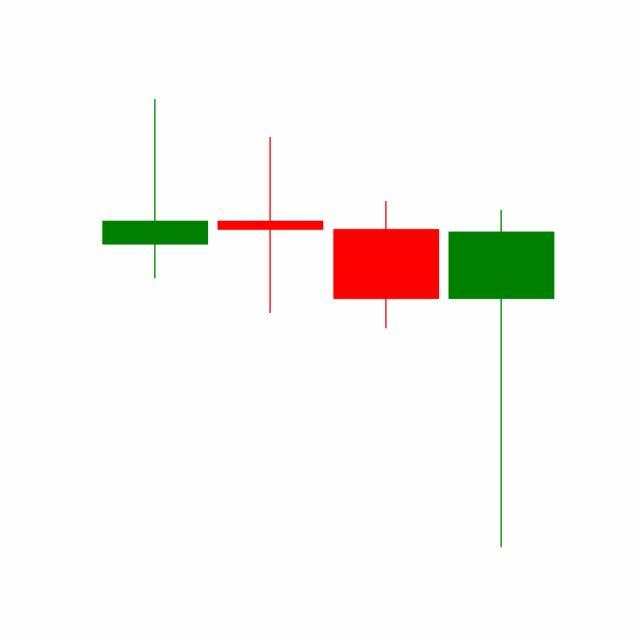Hammer: (444, 207, 560, 552)
